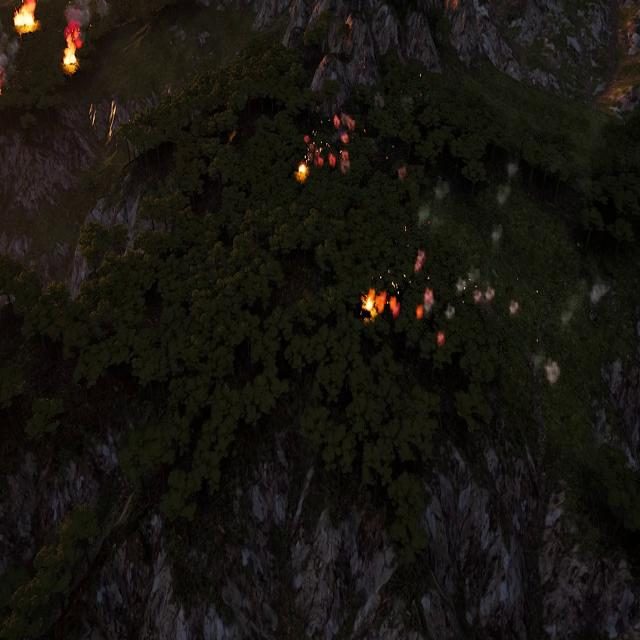fire: (64, 26, 82, 70), (15, 0, 37, 30), (361, 290, 382, 318), (296, 162, 307, 180), (417, 305, 424, 320)
smoke: (305, 111, 356, 174), (418, 176, 450, 276), (490, 156, 520, 258), (454, 270, 494, 310), (0, 29, 19, 98), (66, 0, 114, 25), (542, 358, 560, 387), (590, 279, 609, 304), (421, 286, 434, 318), (415, 250, 425, 275), (389, 295, 399, 318), (396, 164, 406, 182), (510, 301, 520, 317), (438, 331, 447, 348)
